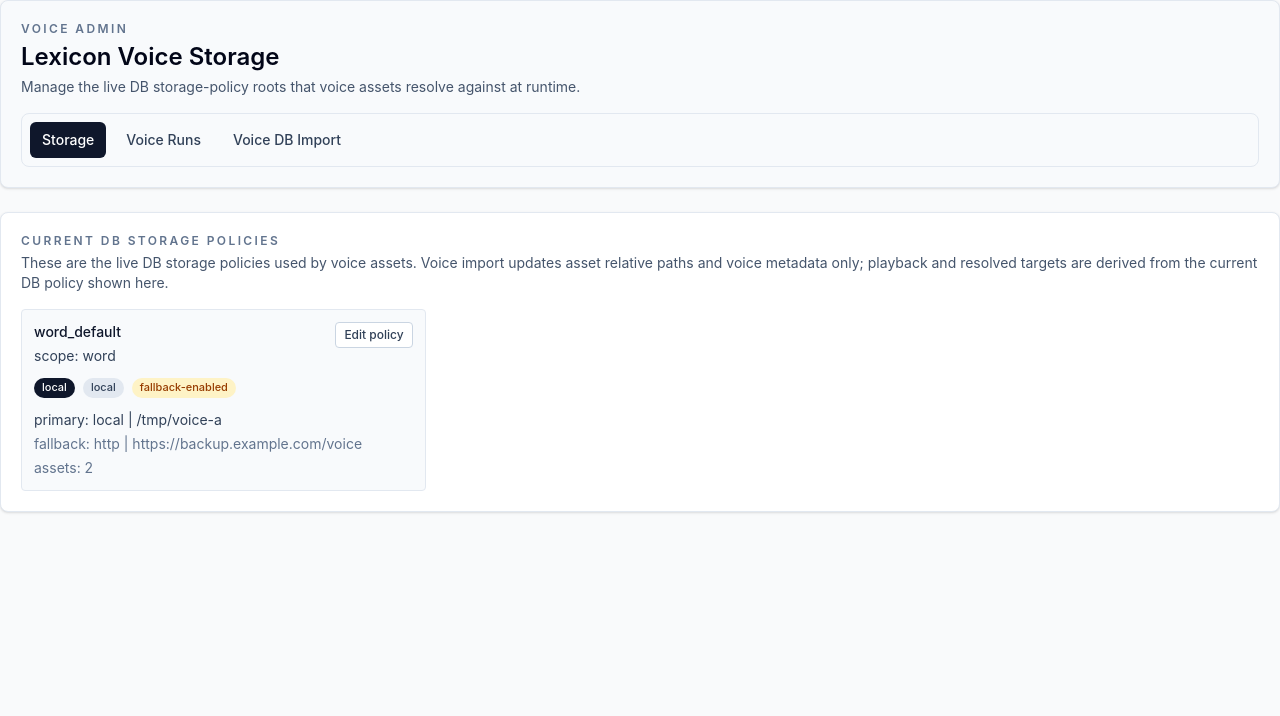
Test case: LexiconVoicePage › refreshes the current DB storage policies after apply
The image size is (1280, 716).
Click the button "Edit policy": (374, 335) left=335, top=322, right=413, bottom=348
(page scrolled)
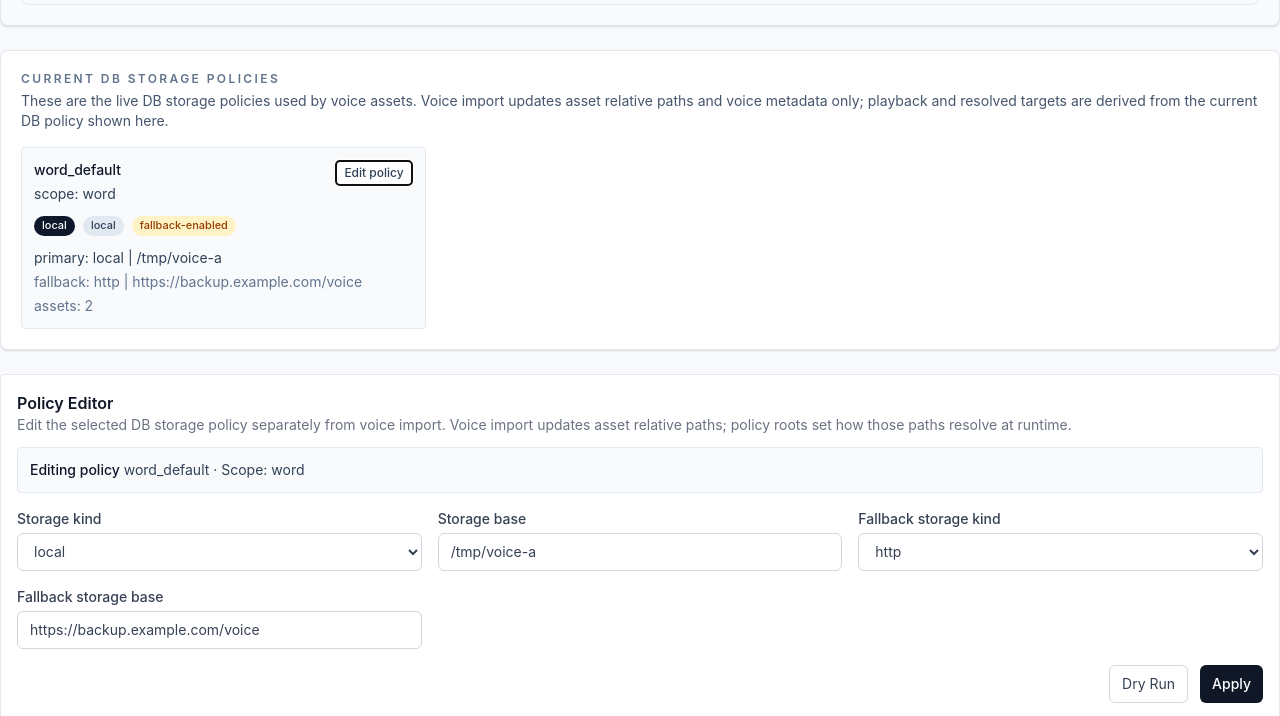
Select "s3" in the dropdown with test id "lexicon-voice-storage-kind": (219, 552) left=17, top=533, right=422, bottom=571
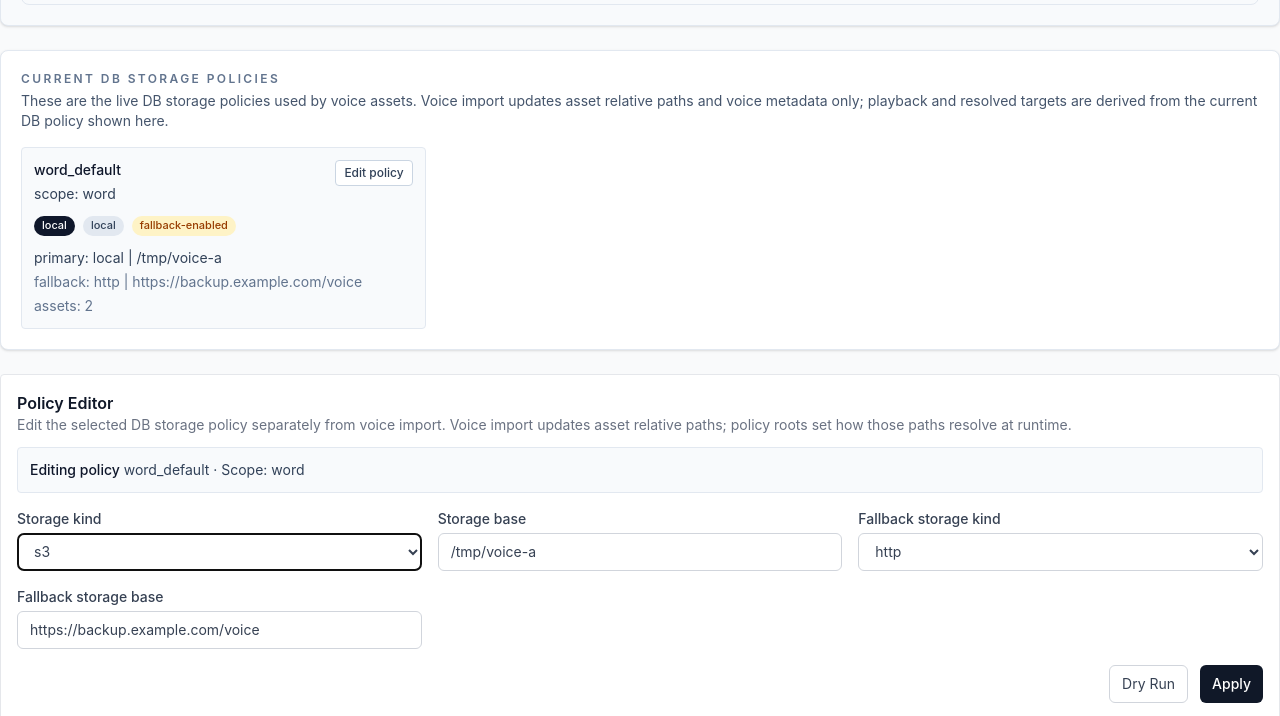
Replace the text in the field with test id "lexicon-voice-storage-base" with "https://cdn.example.com/voice": (640, 552) left=438, top=533, right=842, bottom=571
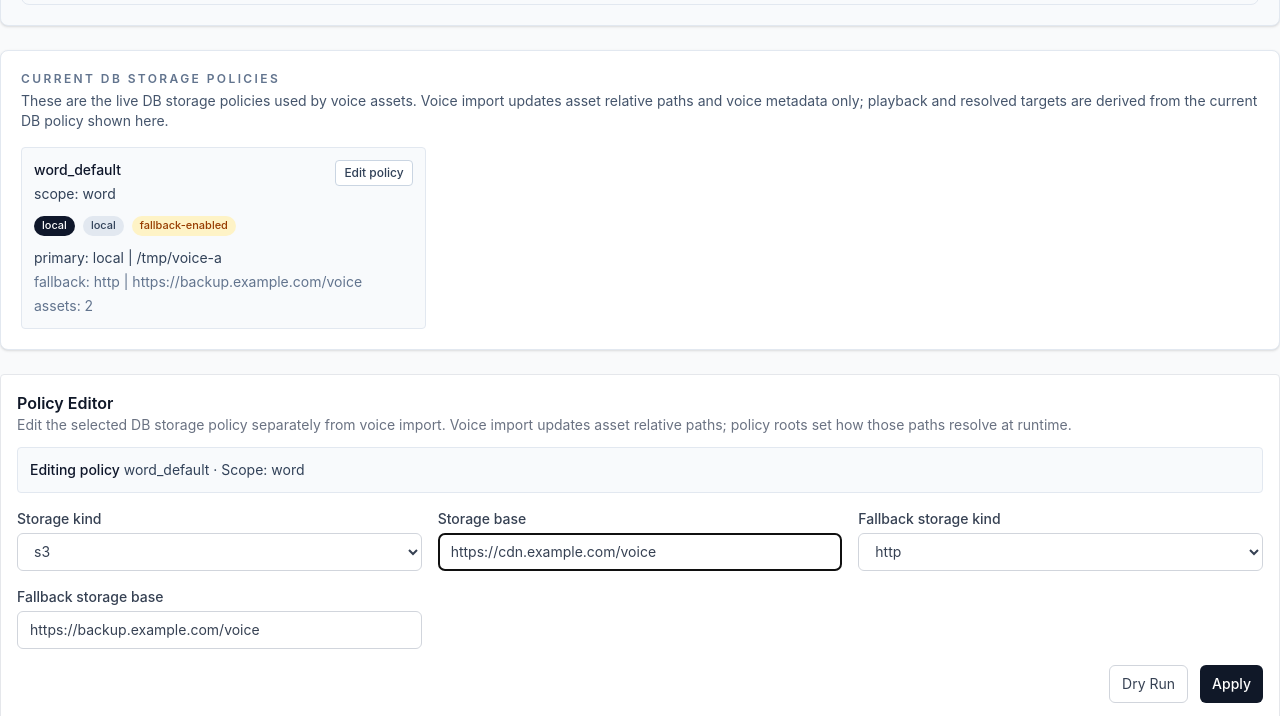
Click the button with test id "lexicon-voice-apply-button": (1232, 684) left=1200, top=665, right=1263, bottom=703
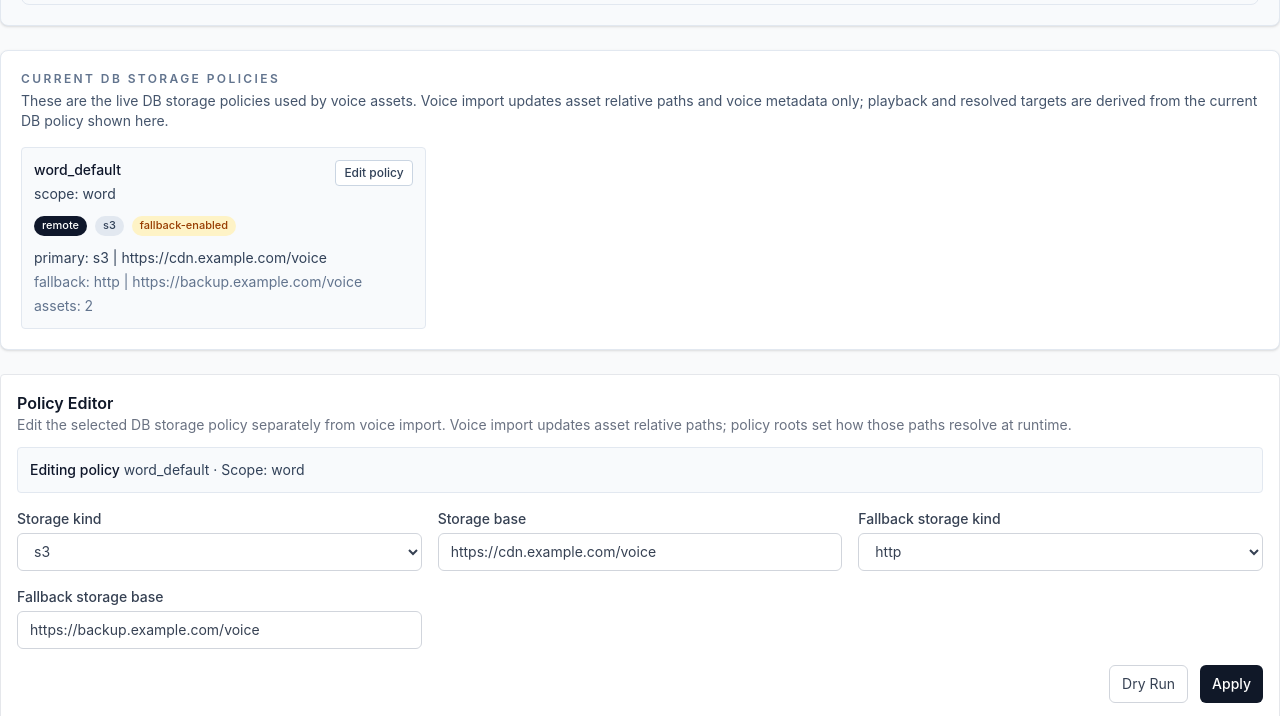
Now the element with test id "lexicon-voice-current-policies" shows "primary: s3 | https://cdn.example.com/voice", box left=0, top=50, right=1279, bottom=350
